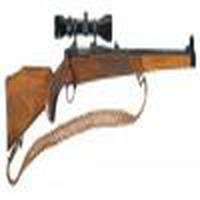gun: (4, 45, 200, 125)
